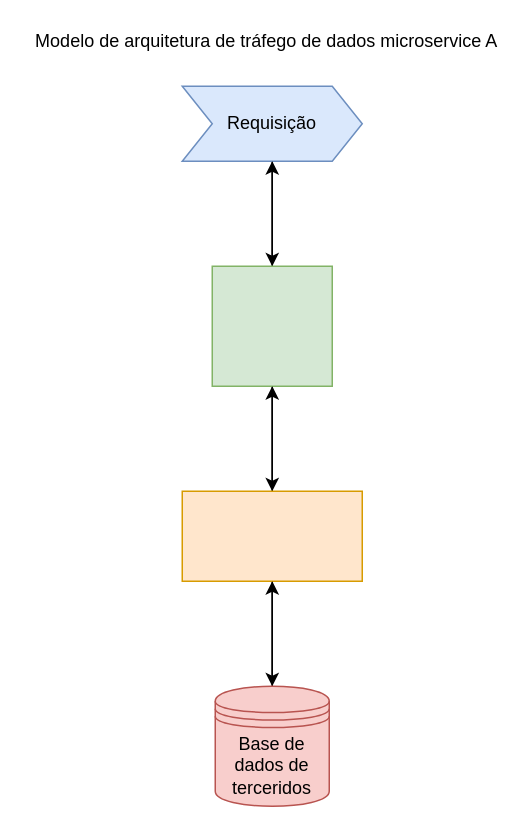
The diagram is 531 pixels wide and 833 high, and some of its shapes have lost their labels. The centre of each missing label's shape, as x and y in pixels:
"Api Gateway (Async)" goes at point 271,325.
"Micro/nano Service A" goes at point 271,535.
